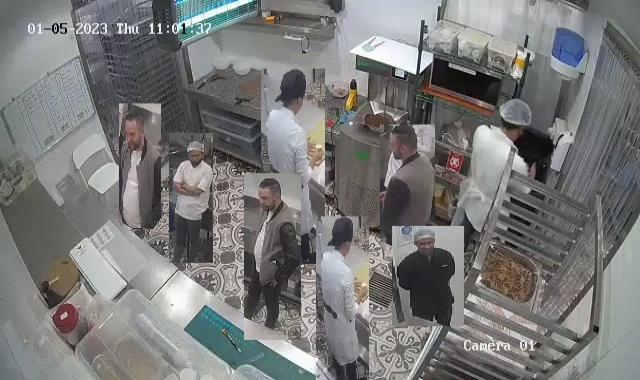hairnet: (501, 97, 531, 139), (411, 231, 437, 252), (183, 139, 207, 160)
no_hairnet: (280, 68, 306, 108), (390, 124, 418, 161), (330, 217, 354, 249), (255, 178, 283, 204), (124, 112, 146, 140)
